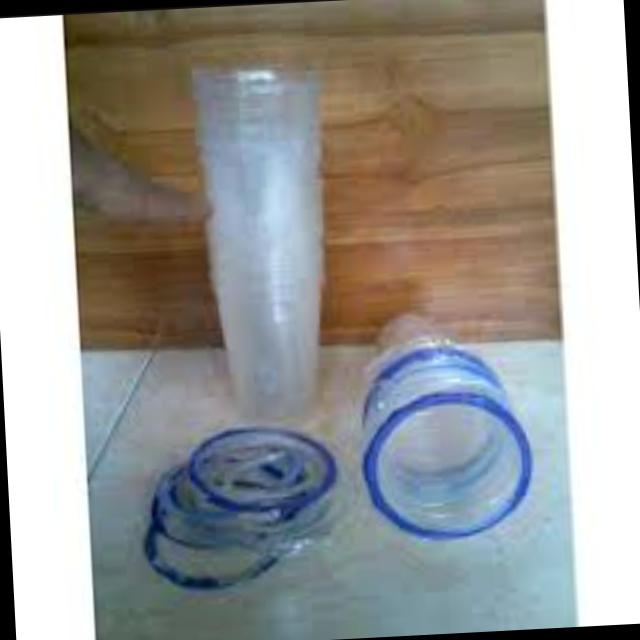GelasPlastik: (186, 52, 339, 426), (359, 304, 536, 550)
